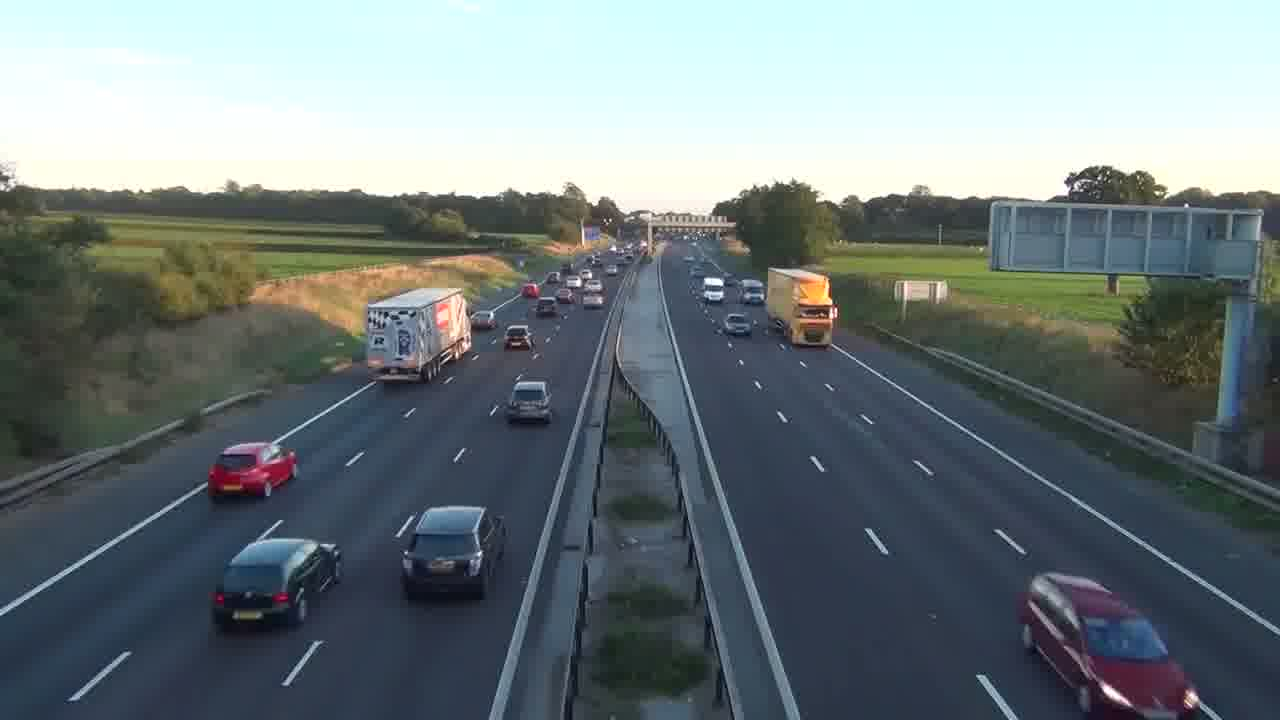car: (1017, 570, 1210, 719), (394, 504, 507, 599), (207, 441, 299, 500), (506, 379, 553, 424), (504, 324, 532, 350), (725, 312, 755, 336)
truck: (1017, 570, 1210, 719), (365, 285, 473, 384), (766, 267, 839, 349)
